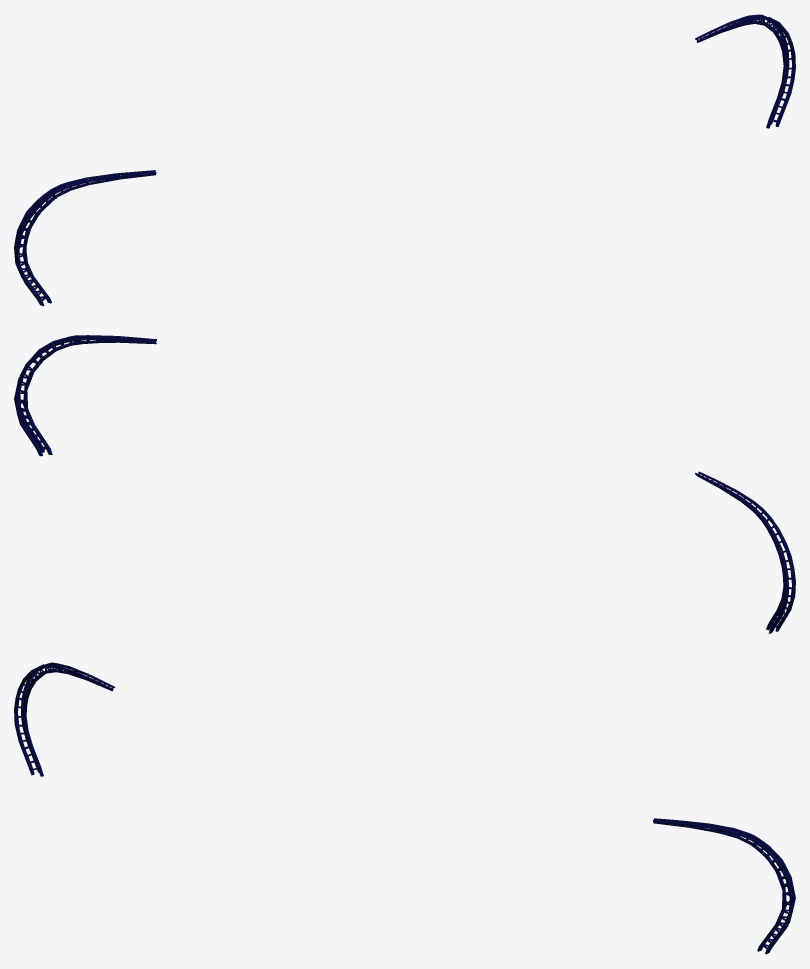
File: Al_Nasar_Football_Stadium_NurbsPath_022.FBX
The picture shows the model from 3 angles, top to bottom: view 1: azimuth 30°, elevation 25°; view 2: azimuth 150°, elevation 25°; view 3: azimuth 330°, elevation 25°; orthographic projection.
Visible parts, largest first — view 1: Al_Nasar_Football_Stadium_NurbsPath_022; view 2: Al_Nasar_Football_Stadium_NurbsPath_022; view 3: Al_Nasar_Football_Stadium_NurbsPath_022.
Boxes of the visible parts, x1,y1,x2,y2 form: Al_Nasar_Football_Stadium_NurbsPath_022: (14,14,795,306); Al_Nasar_Football_Stadium_NurbsPath_022: (14,335,795,633); Al_Nasar_Football_Stadium_NurbsPath_022: (14,662,795,954).
Size of the model in its own units: 25597 by 1579 by 3873.
